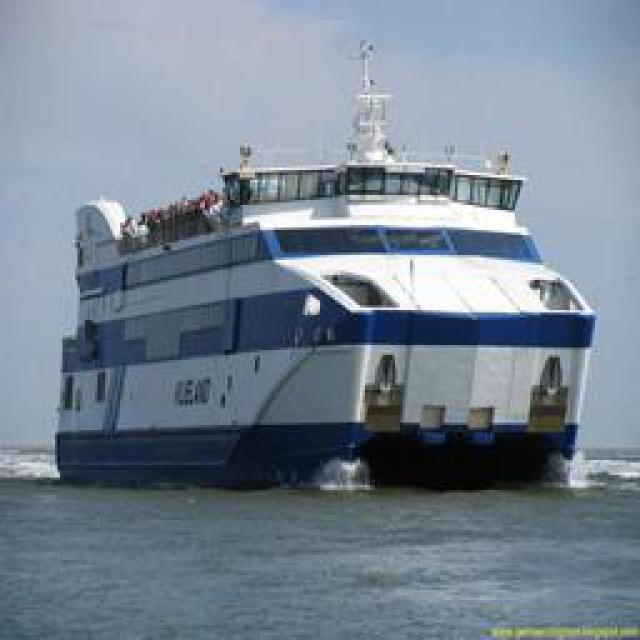Ship: (47, 106, 600, 489)
